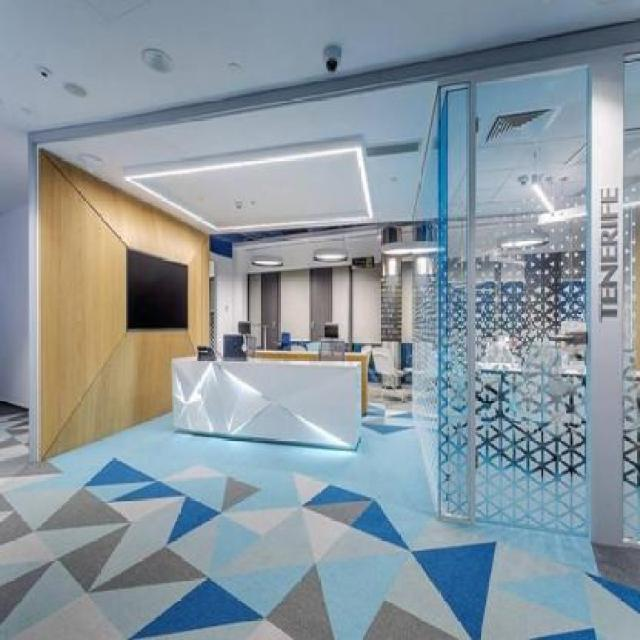frontdesk: (164, 343, 380, 456)
